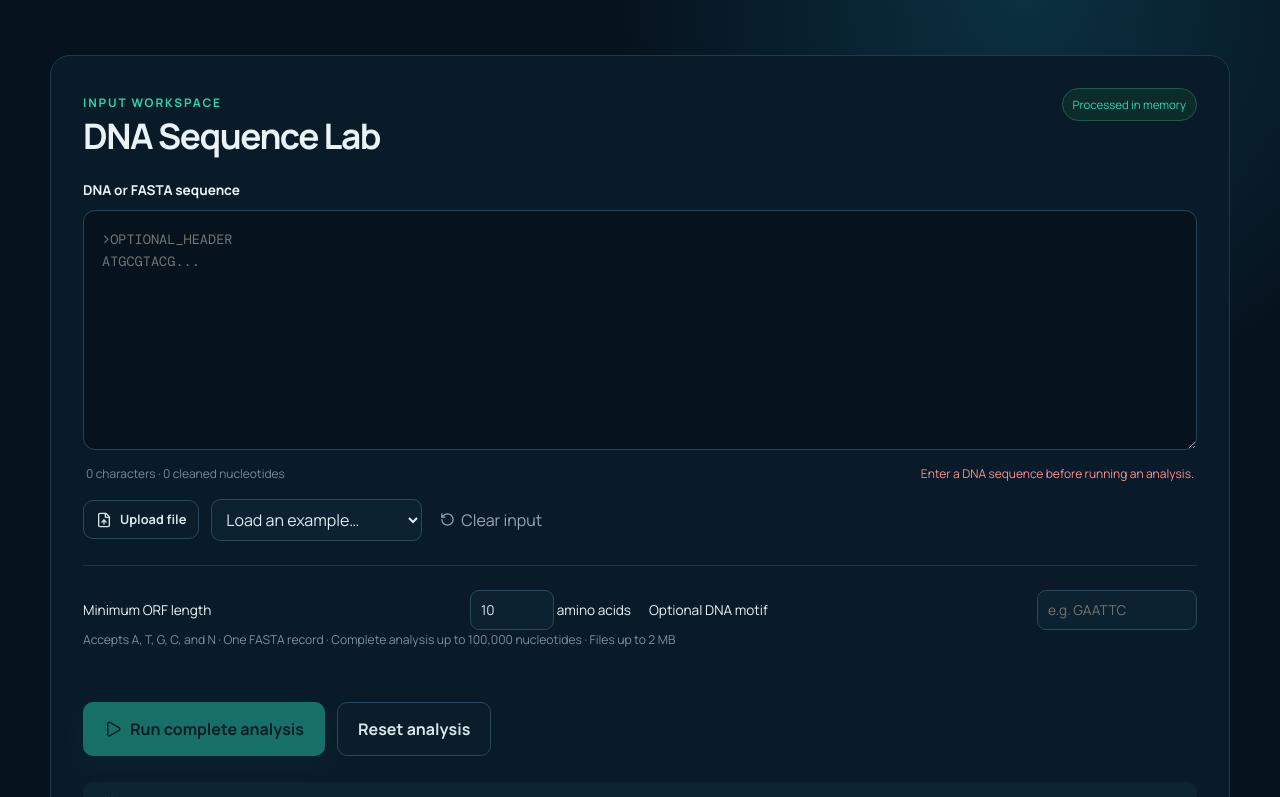
it: rejects a header-only FASTA record
Type ">sample" into the text box labelled "DNA or FASTA sequence" at (640, 330), box [83,210,1197,450]
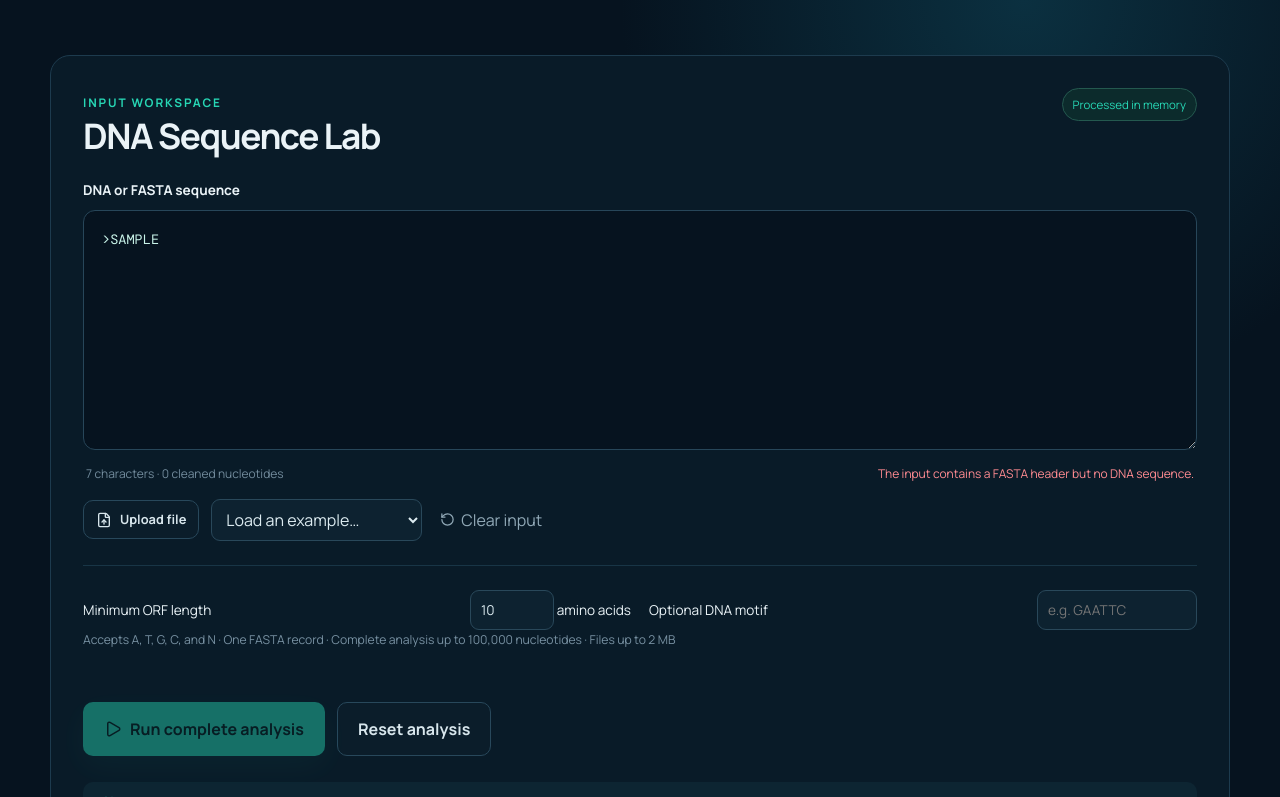
Check: the button "Run complete analysis" is disabled, box [83,702,325,756]
Check: the text "The input contains a FASTA header but no DNA sequence." is shown, box [878,464,1194,484]
